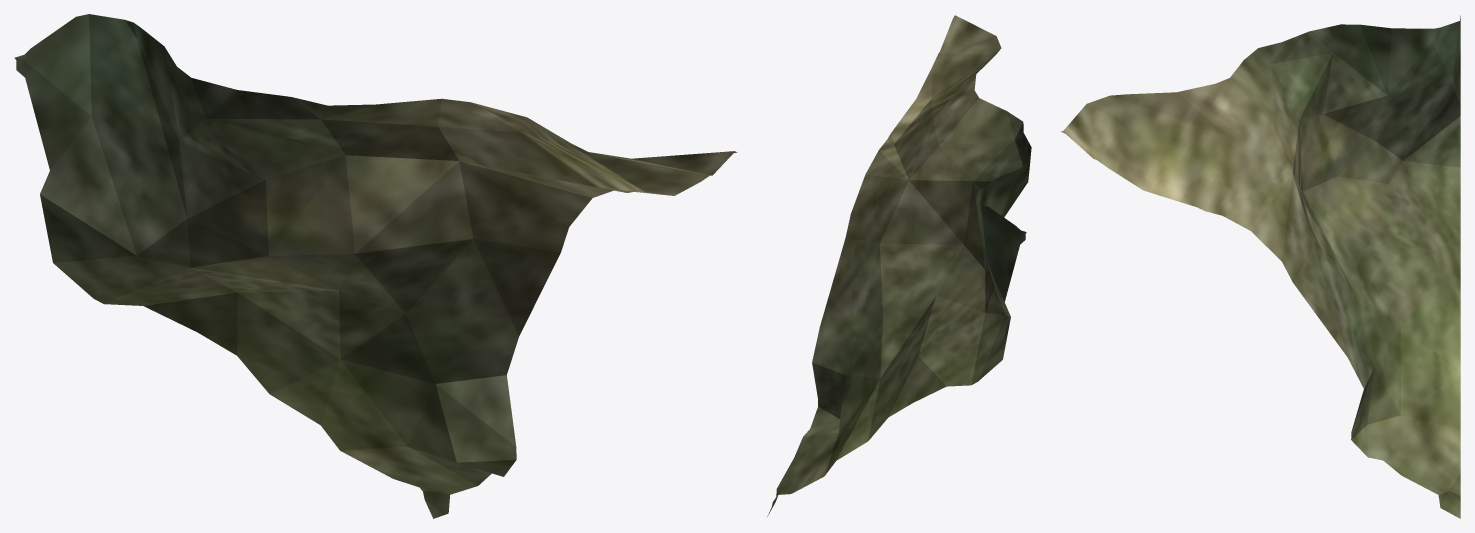
3 renders of one model, left to right at view 1: azimuth 30°, elevation 25°; view 2: azimuth 150°, elevation 25°; view 3: azimuth 270°, elevation 25°, orthographic. The views are drawn at different scales.
Size of the model in its own units: 0.7596 by 1.02 by 0.9554.
1 material, 1 textured.
